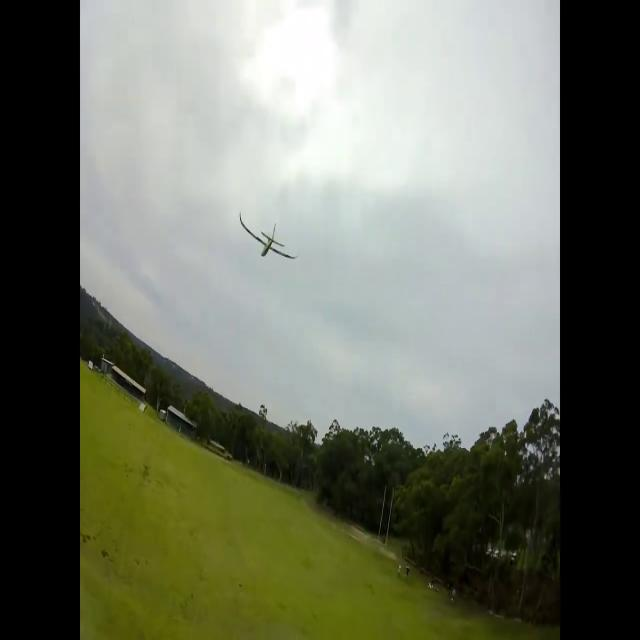iha: (232, 214, 291, 261)
